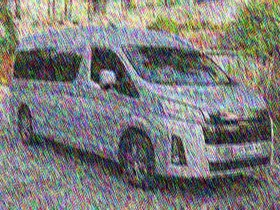van: (10, 32, 275, 185)
